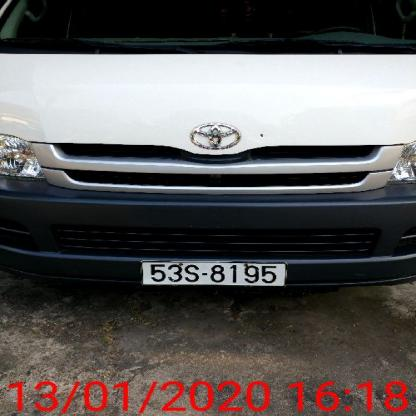biensoxe: (140, 254, 288, 288)
